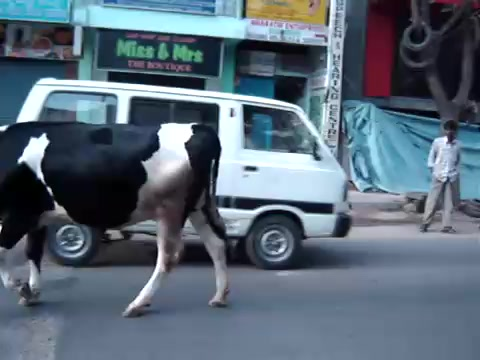cow: (1, 120, 234, 315)
